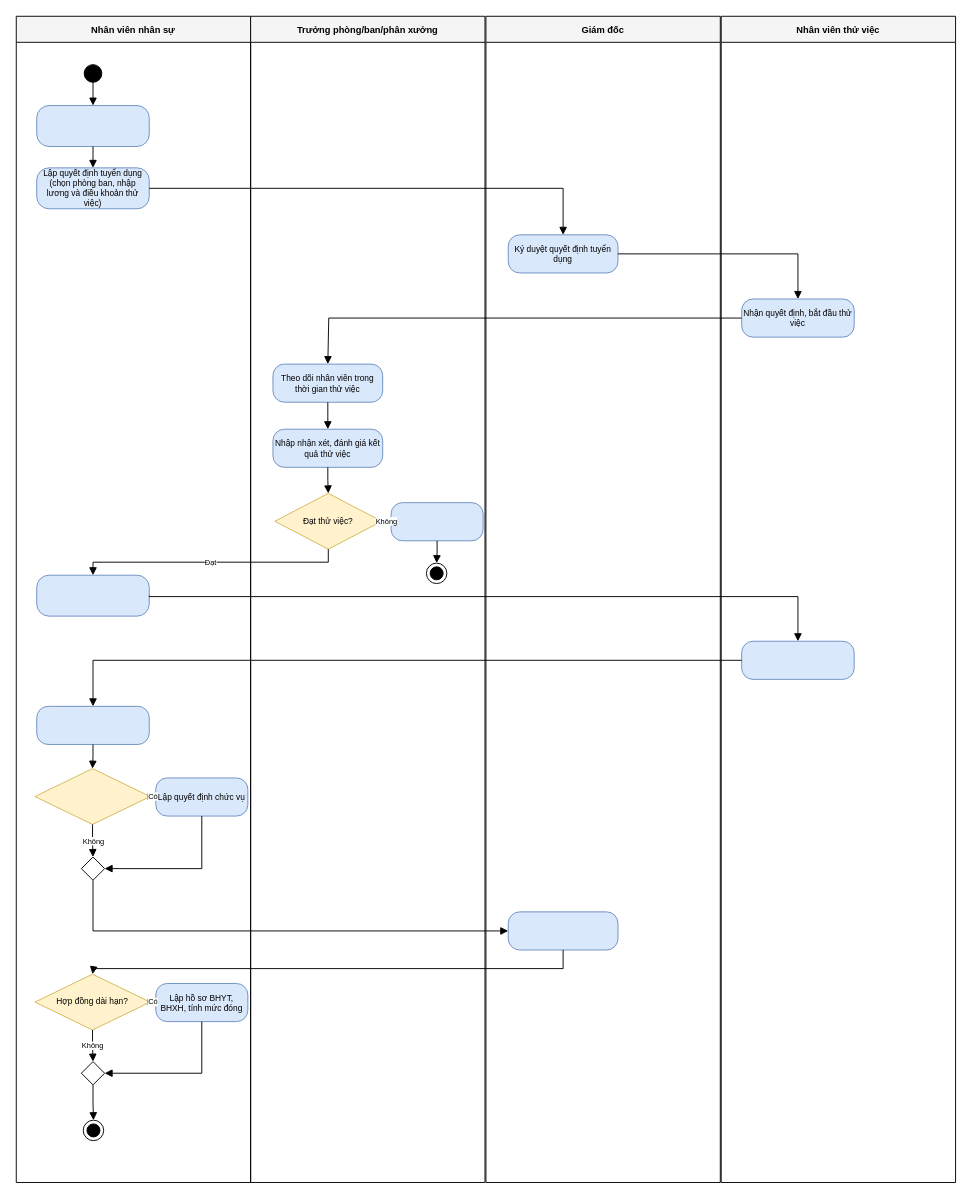
This 972x1199 diagram has some shape labels left out. Here are the shapes that lost their labels. From the top down, the centre of each, then its label:
At point 92,125: "Lập hồ sơ nhân viên mới".
At point 436,521: "Thông báo không đạt, kết thúc thử việc".
At point 92,595: "Chọn loại hợp đồng (dài hạn / ngắn hạn), lập hợp đồng lao động".
At point 797,659: "Xác nhận ký hợp đồng chính thức".
At point 92,724: "Lập quyết định lương".
At point 92,796: "Có chức vụ / phụ cấp chức vụ?".
At point 562,930: "Ký duyệt quyết định lương, chức vụ".
